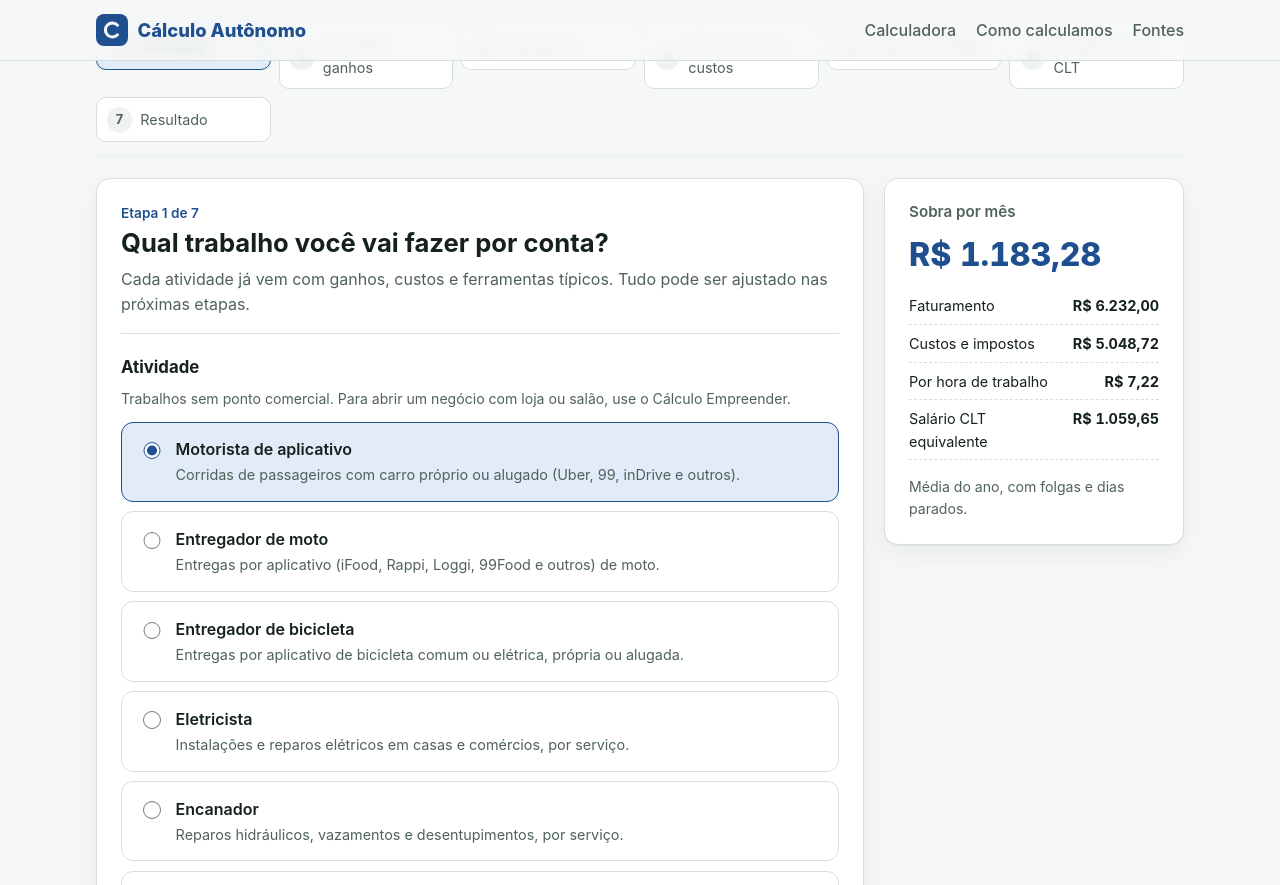
Test: Autonomous work page › every occupation renders every step in both regimes
Later steps or results of the test are not shown.
(page scrolled)
Click the 1st radio button at (152,451), box top-left (143, 442), bottom-right (161, 459)
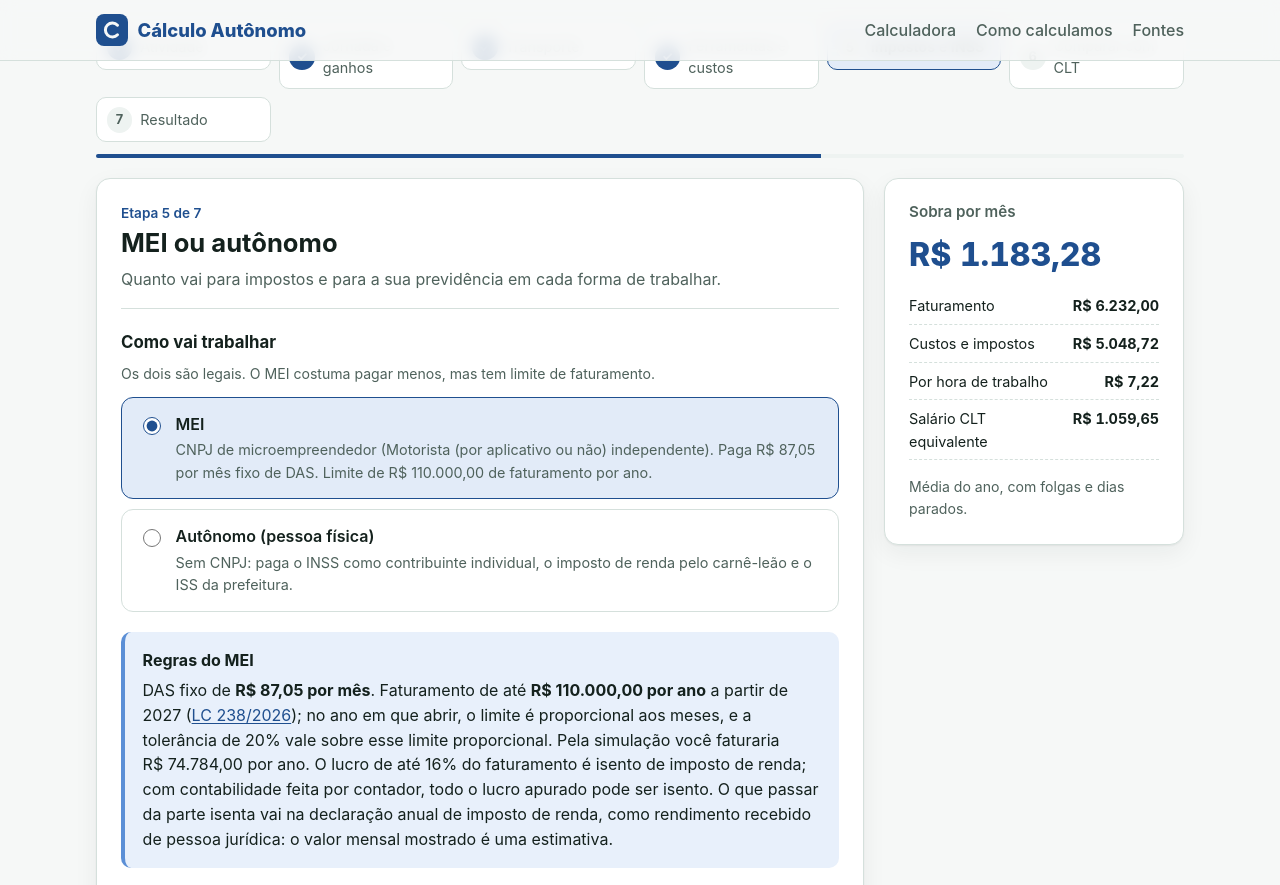
Click the 1st radio button at (152,426), box top-left (143, 417), bottom-right (161, 435)
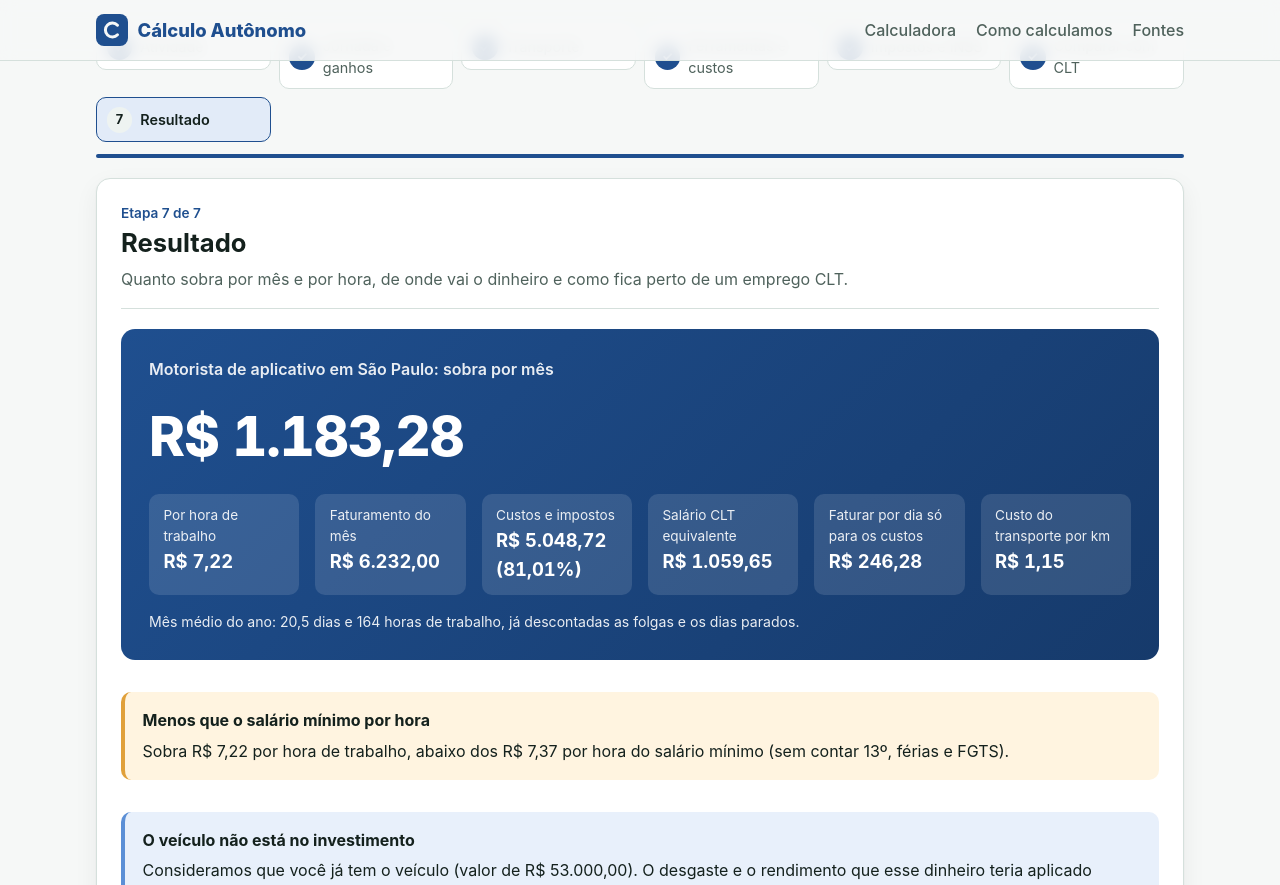
expect the text with class "step__count" reads "Etapa 7 de 7": met, box top-left (121, 205), bottom-right (201, 221)
